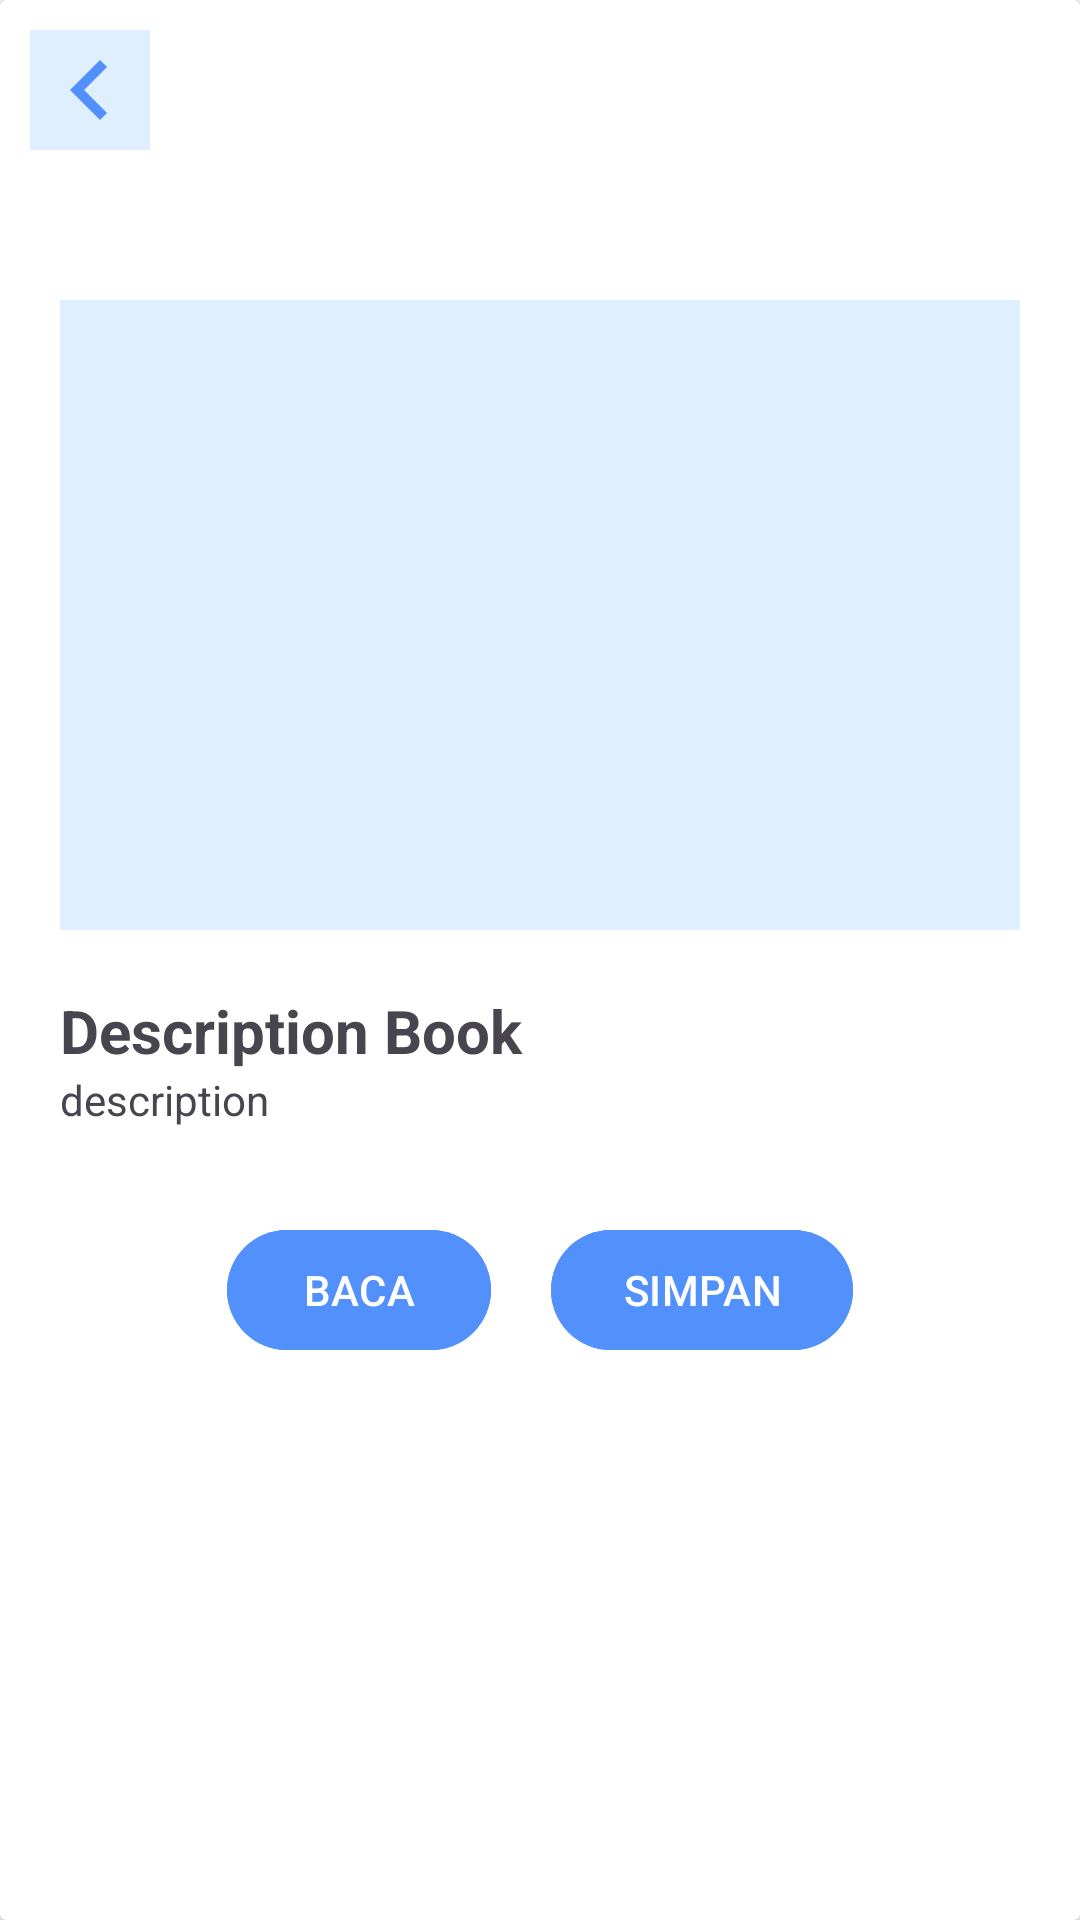

Where icons sit on this 1080×1920 app screen, as (x1, y1, x2, y2):
back: (30, 30, 150, 150)
